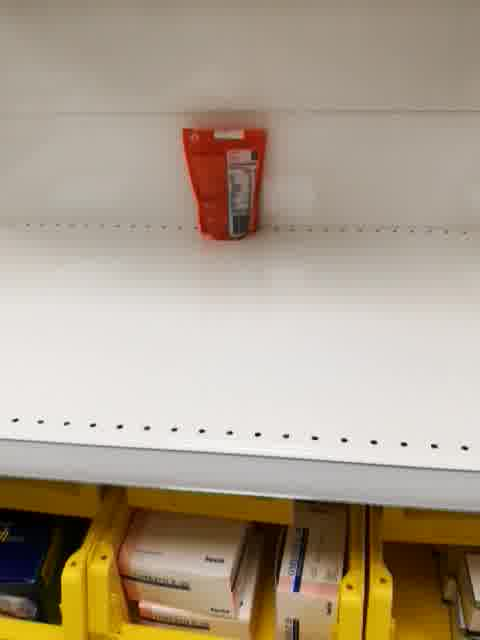whitechia: (179, 122, 269, 245)
